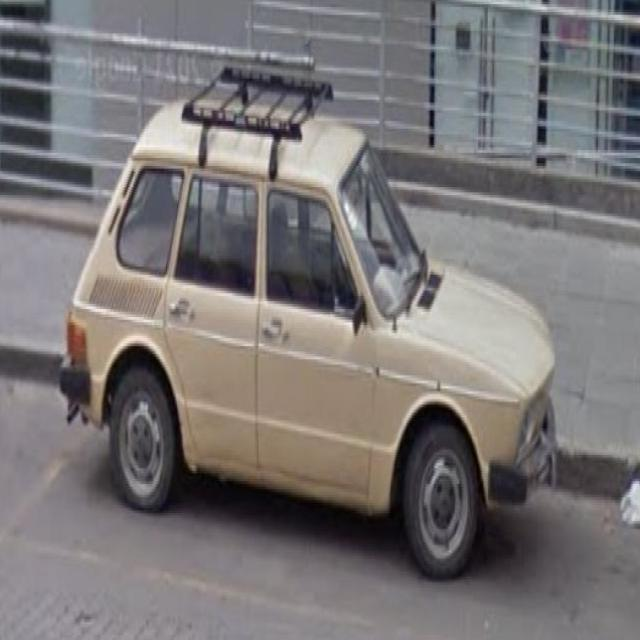car: (52, 59, 610, 577)
